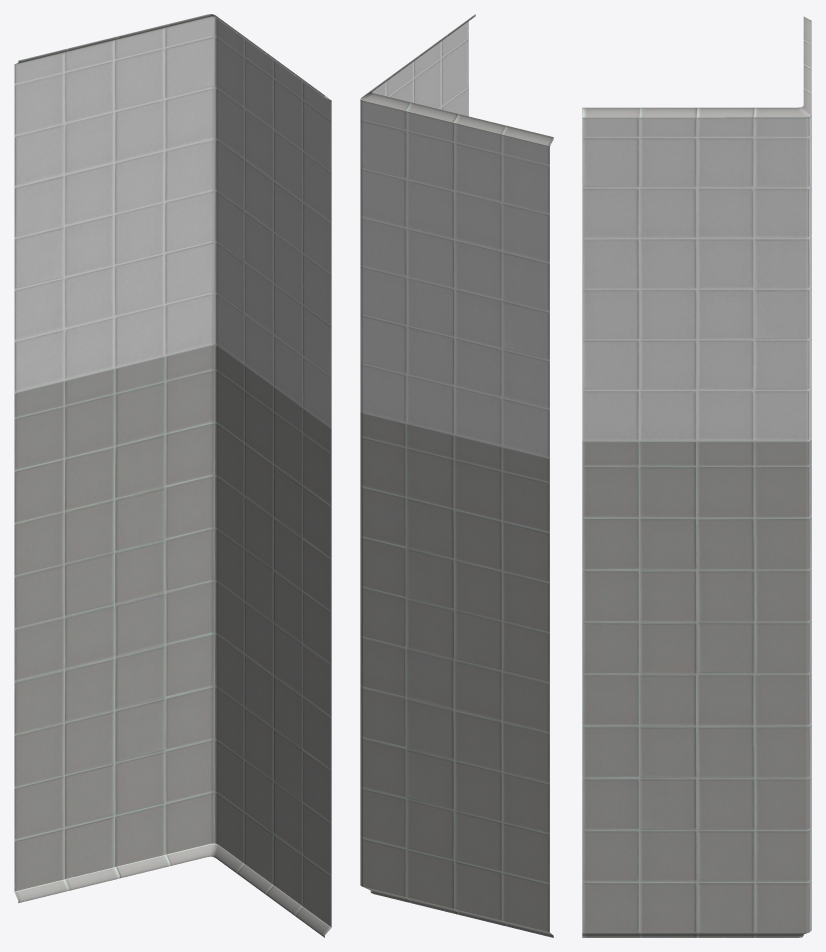
File: bathroom_concave_short.dae
The picture shows the model from 3 angles, left to right: view 1: azimuth 30°, elevation 25°; view 2: azimuth 150°, elevation 25°; view 3: azimuth 270°, elevation 25°; orthographic projection. The views are drawn at different scales.
Parts seen in each view (by area): view 1: bathroom_concave_short; view 2: bathroom_concave_short; view 3: bathroom_concave_short.
Part boxes in pixels (box(x1,y1,x2,y2)): bathroom_concave_short: box(14, 14, 331, 937); bathroom_concave_short: box(360, 14, 553, 937); bathroom_concave_short: box(582, 16, 811, 937).
Size of the model in its own units: 100 by 400 by 100.
